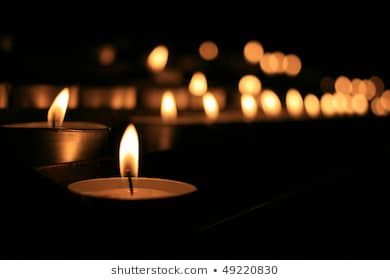Fire: (117, 122, 143, 179), (46, 87, 71, 126), (145, 45, 168, 72), (237, 92, 259, 119), (159, 92, 179, 121), (259, 92, 283, 116), (237, 74, 261, 95), (189, 70, 208, 96), (203, 92, 221, 118), (286, 90, 303, 116), (305, 92, 321, 118)
